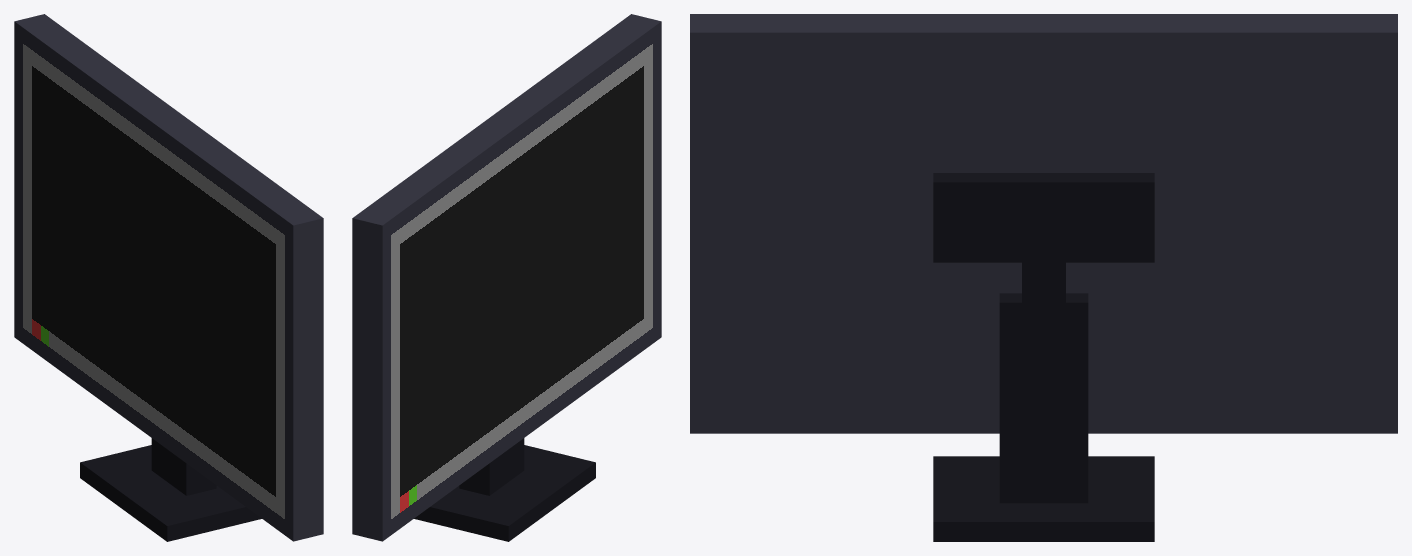
File: television.fbx
The picture shows the model from 3 angles, left to right: view 1: azimuth 30°, elevation 25°; view 2: azimuth 150°, elevation 25°; view 3: azimuth 270°, elevation 25°; orthographic projection. The views are drawn at different scales.
Parts seen in each view (by area): view 1: television; view 2: television; view 3: television.
Boxes of the visible parts, bbox=[...] form: television: bbox=[14, 14, 323, 541]; television: bbox=[352, 14, 661, 541]; television: bbox=[690, 14, 1397, 541].
Size of the model in its own units: 7 by 24 by 32.
